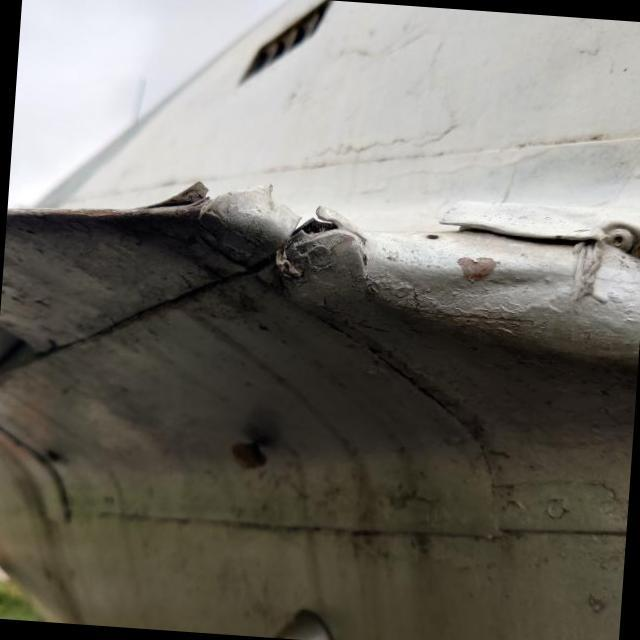Rupture: (115, 144, 273, 237), (270, 187, 356, 260)
